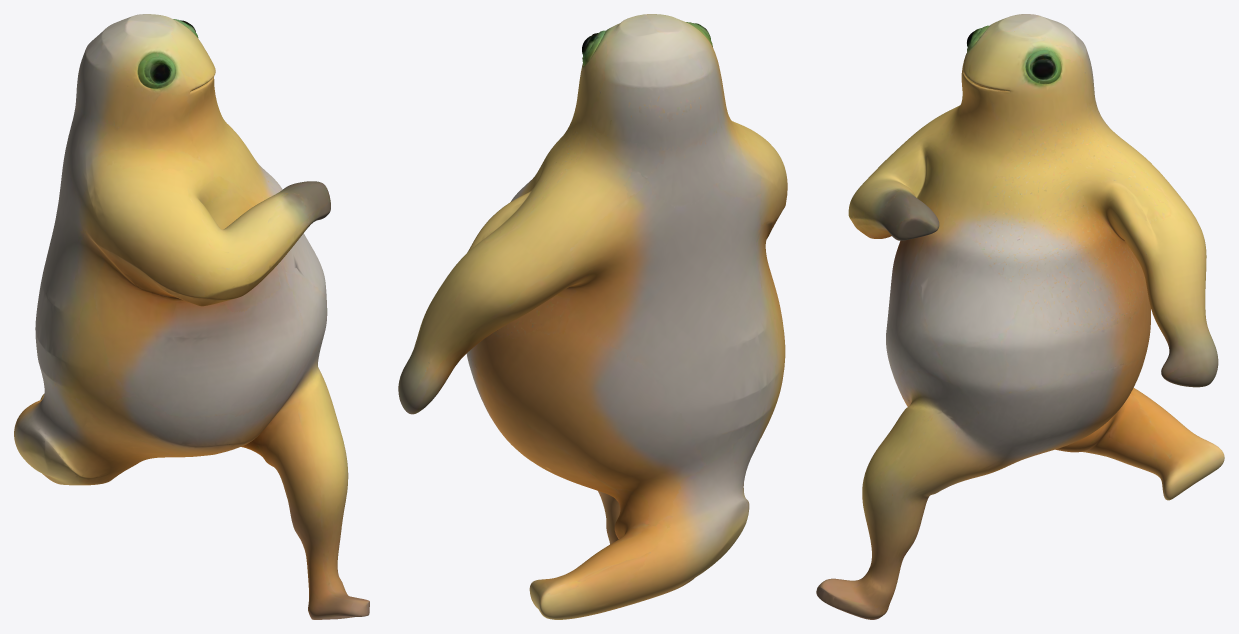
Rendered from frog-run-v2-opt.glb.
The picture shows the model from 3 angles, left to right: view 1: azimuth 30°, elevation 25°; view 2: azimuth 150°, elevation 25°; view 3: azimuth 270°, elevation 25°; orthographic projection. The views are drawn at different scales.
Visible parts, largest first — view 1: node_0; view 2: node_0; view 3: node_0.
Boxes of the visible parts, x1,y1,x2,y2 form: node_0: [14, 14, 369, 619]; node_0: [398, 14, 787, 619]; node_0: [816, 14, 1224, 619].
Bounding box in the file's own units: 0.4829 × 1.02 × 0.6907.
Materials: 1 (1 with a texture image).
